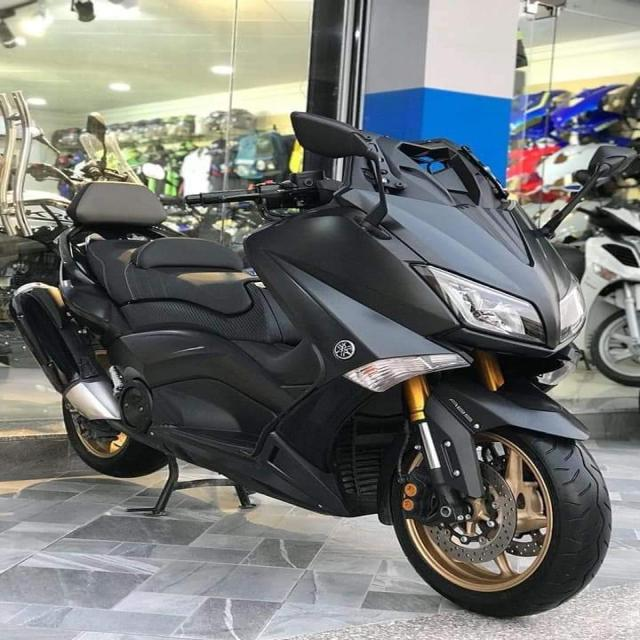Motorcycle: (11, 111, 612, 617)
